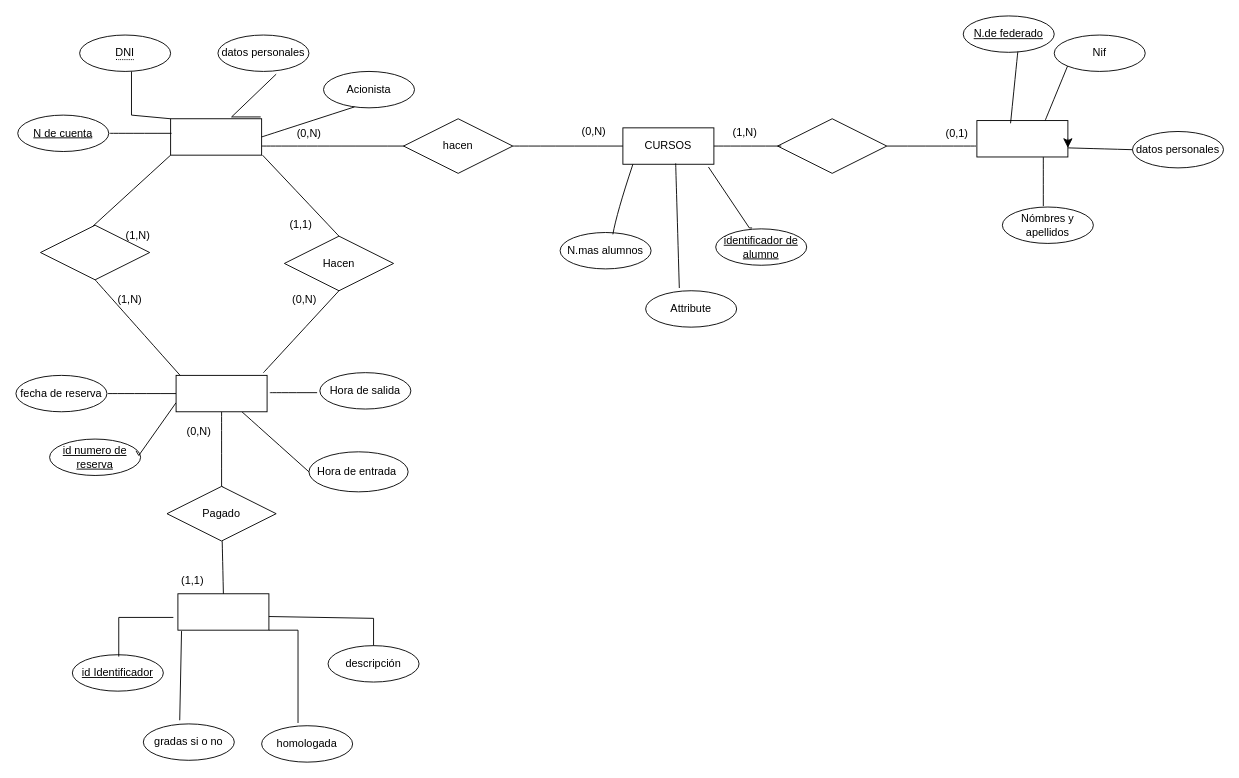
The diagram is 1239 pixels wide and 778 high, and some of its shapes have lost their labels. The box of each missing label's shape, as (x1, y1, x2, y2) in pixels:
Imparten: (777, 118, 887, 173)
Juegan: (40, 224, 150, 280)
PISTAS: (177, 593, 269, 630)
PROFESOR: (976, 120, 1068, 157)
RESERVAS: (175, 374, 267, 412)
SOCIOS: (170, 118, 262, 155)
